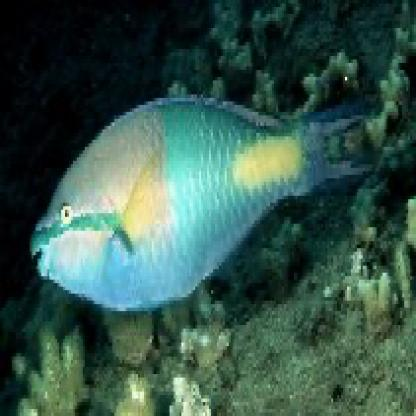parrot: (27, 85, 380, 319)
